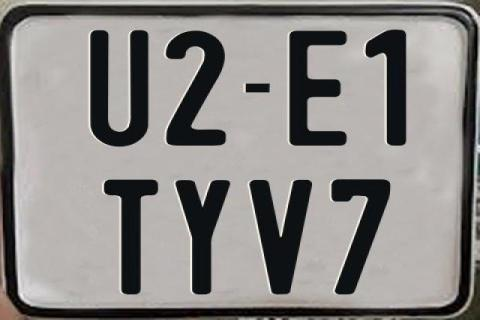0: (328, 177, 393, 293), (164, 29, 224, 149), (366, 28, 410, 148)
E: (288, 30, 348, 146)
T: (103, 178, 158, 298)
U: (90, 28, 153, 147)
V: (250, 178, 314, 296)
Y: (173, 180, 231, 295)
